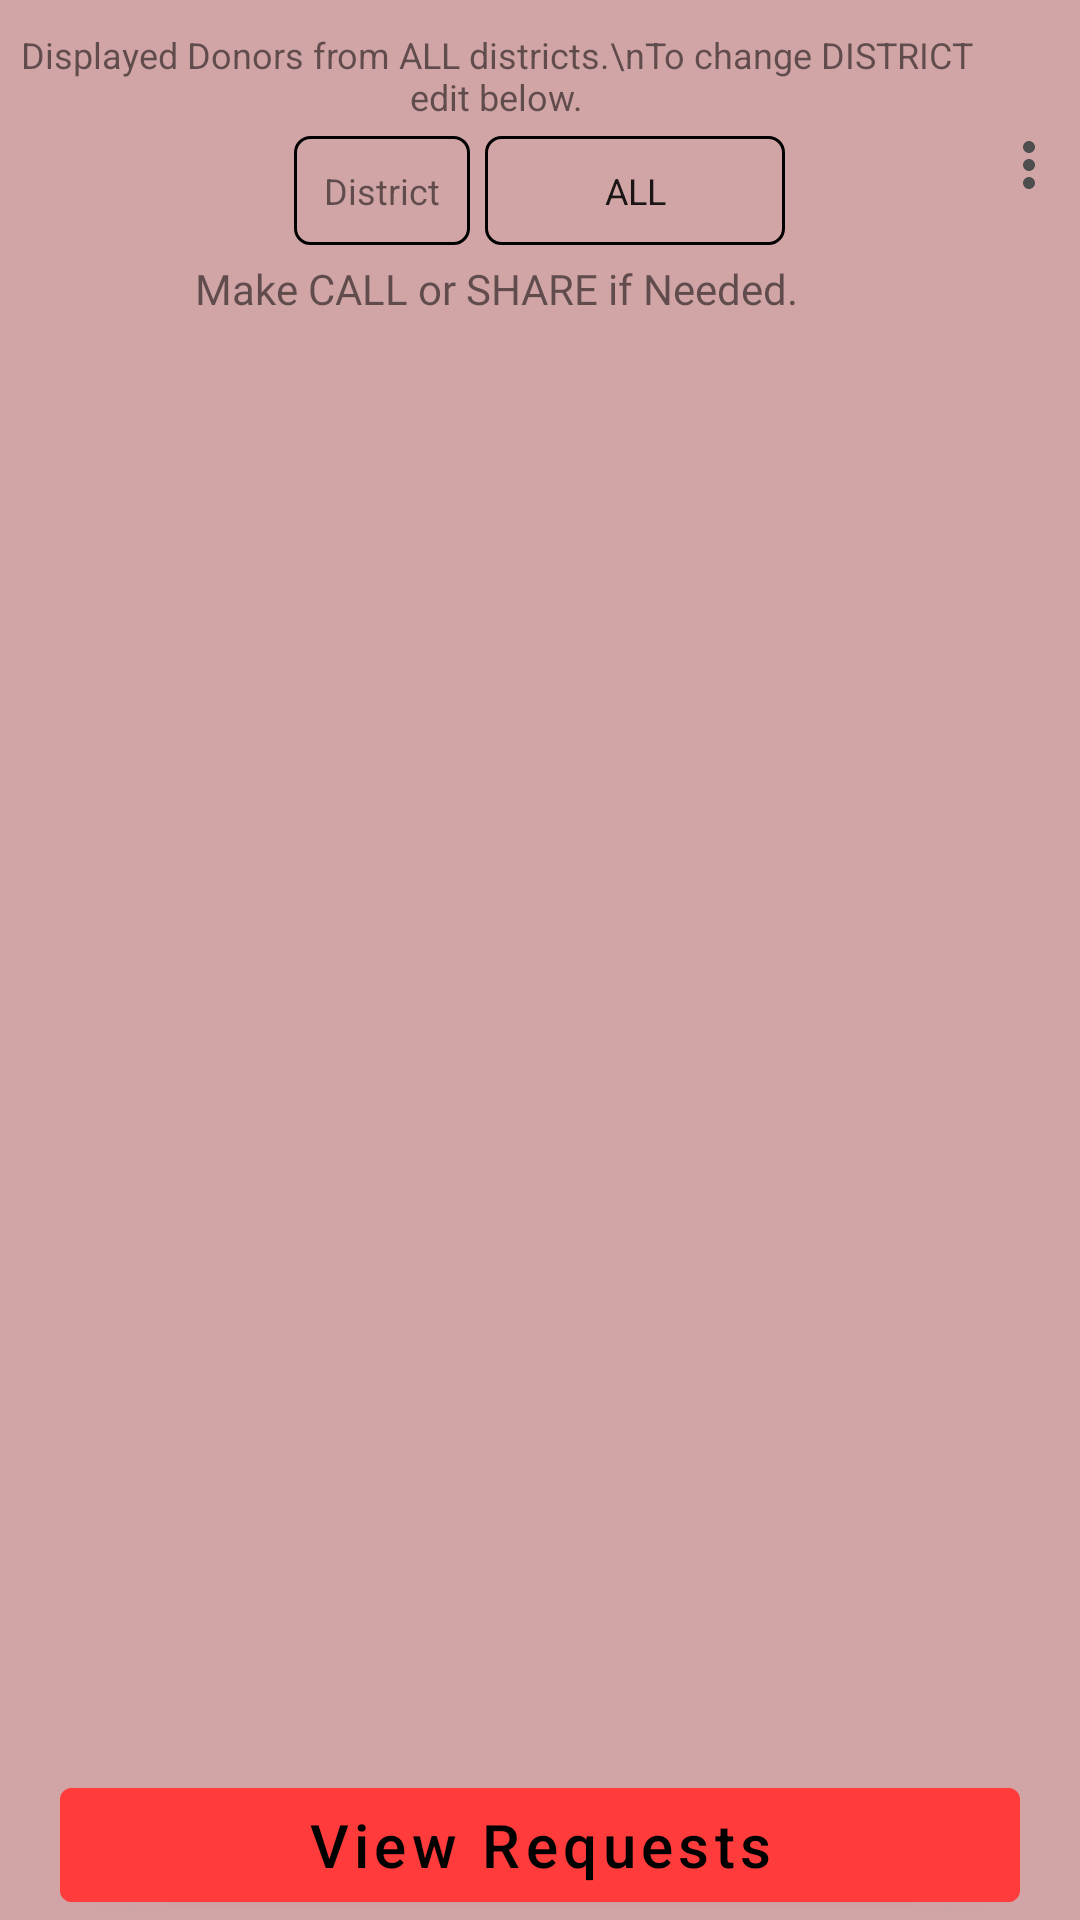

Point at icon controls on the screen. Image size 1080 x 1920, points as (x,y).
more vert: (1029,165)
